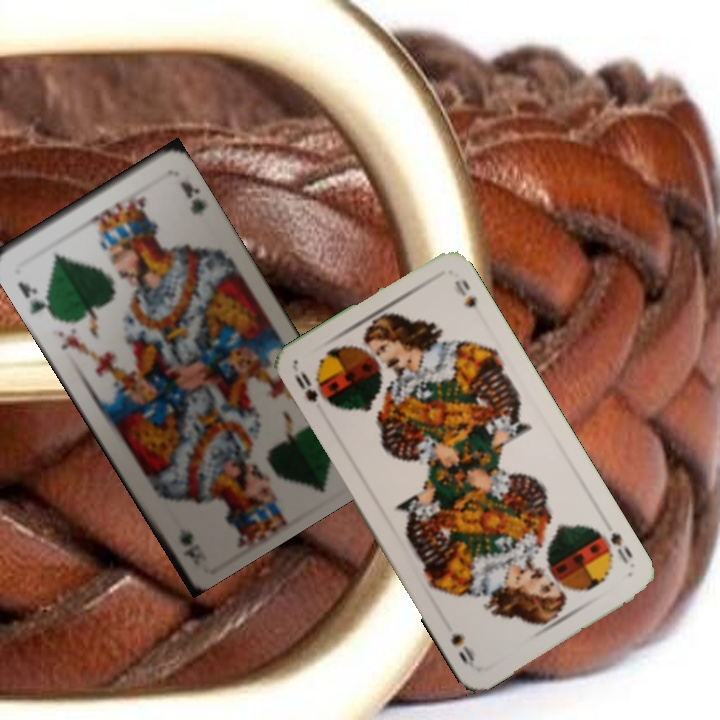GK: (14, 277, 54, 317)
SO: (291, 366, 321, 405), (606, 528, 636, 567)
